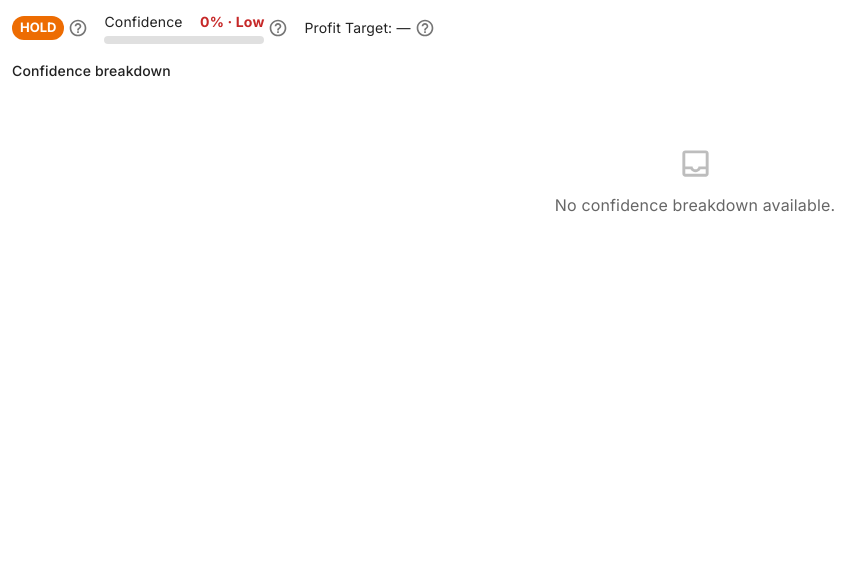
SignalSummary › clicking a Neutral-tide HOLD signal names Tide as the blocking condition, not a generic message
Click the button with aria-label "Why HOLD?" at (38, 28), box [12, 16, 64, 40]
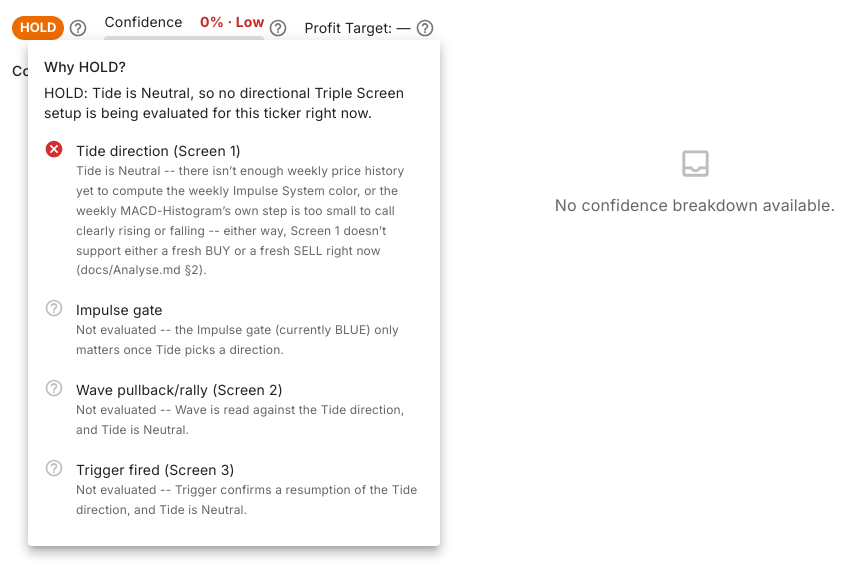
Expected: the text "Tide is Neutral" is shown, [44, 84, 404, 121]
